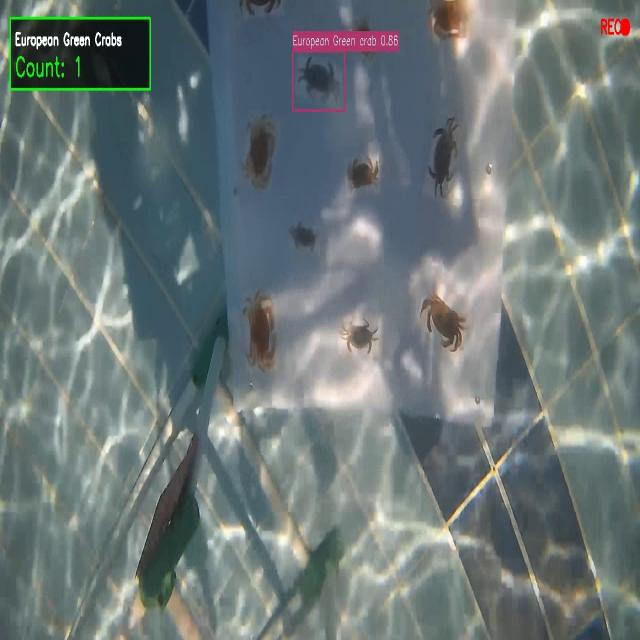European_Green_Crab: (419, 107, 464, 202), (291, 50, 345, 111), (341, 313, 381, 361), (287, 219, 319, 258)
